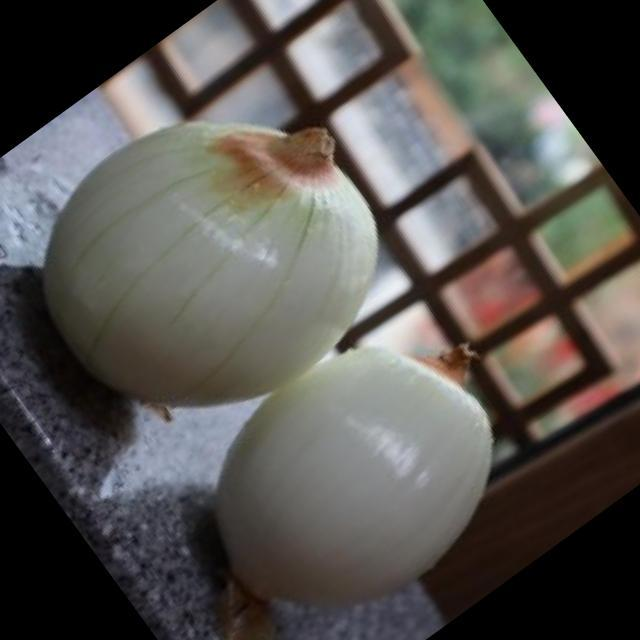Onion: (37, 123, 384, 400), (207, 344, 496, 604)
